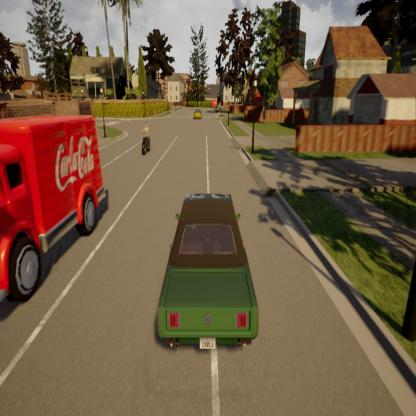Cars: (0, 112, 108, 305), (157, 191, 258, 354), (140, 120, 151, 155), (193, 106, 202, 119), (210, 96, 218, 110)
